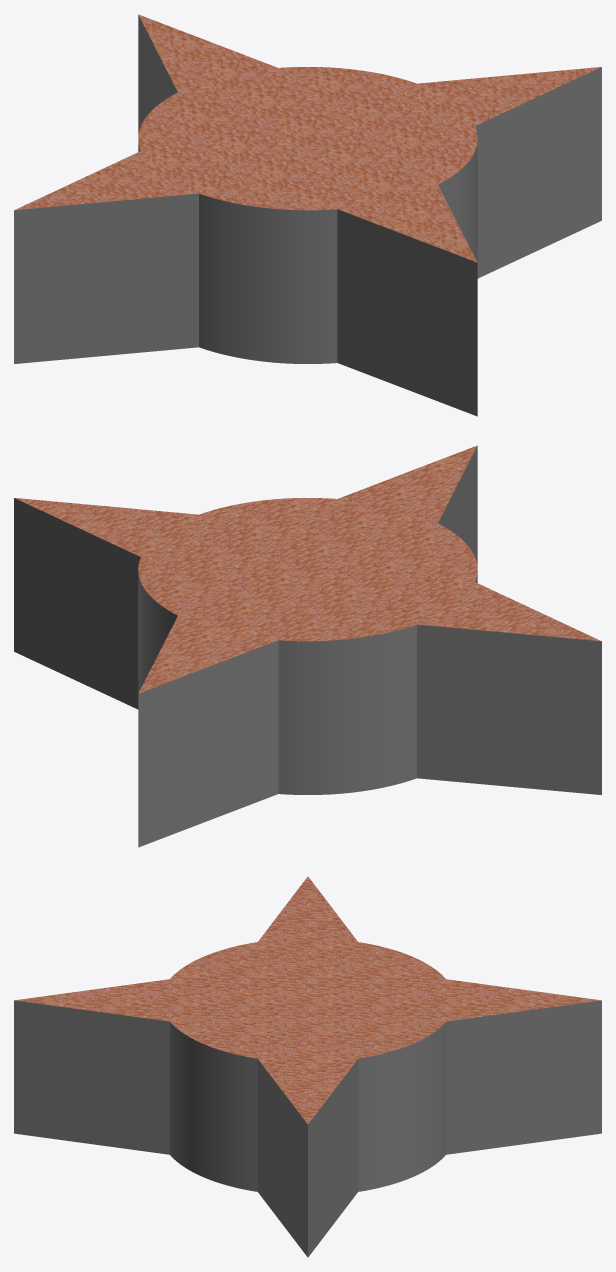
Rendered from playerCore_v1.gltf.
3 views of the same model, one above another, from view 1: azimuth 30°, elevation 25°; view 2: azimuth 150°, elevation 25°; view 3: azimuth 270°, elevation 25° (orthographic). The views are drawn at different scales.
Visible parts, largest first — view 1: root; view 2: root; view 3: root.
Boxes of the visible parts, left/top/right/bottom form: root: left=14, top=14, right=601, bottom=416; root: left=14, top=445, right=601, bottom=847; root: left=14, top=876, right=601, bottom=1257.
Size of the model in its own units: 4 by 1 by 4.
Materials: 2 (1 with a texture image).
